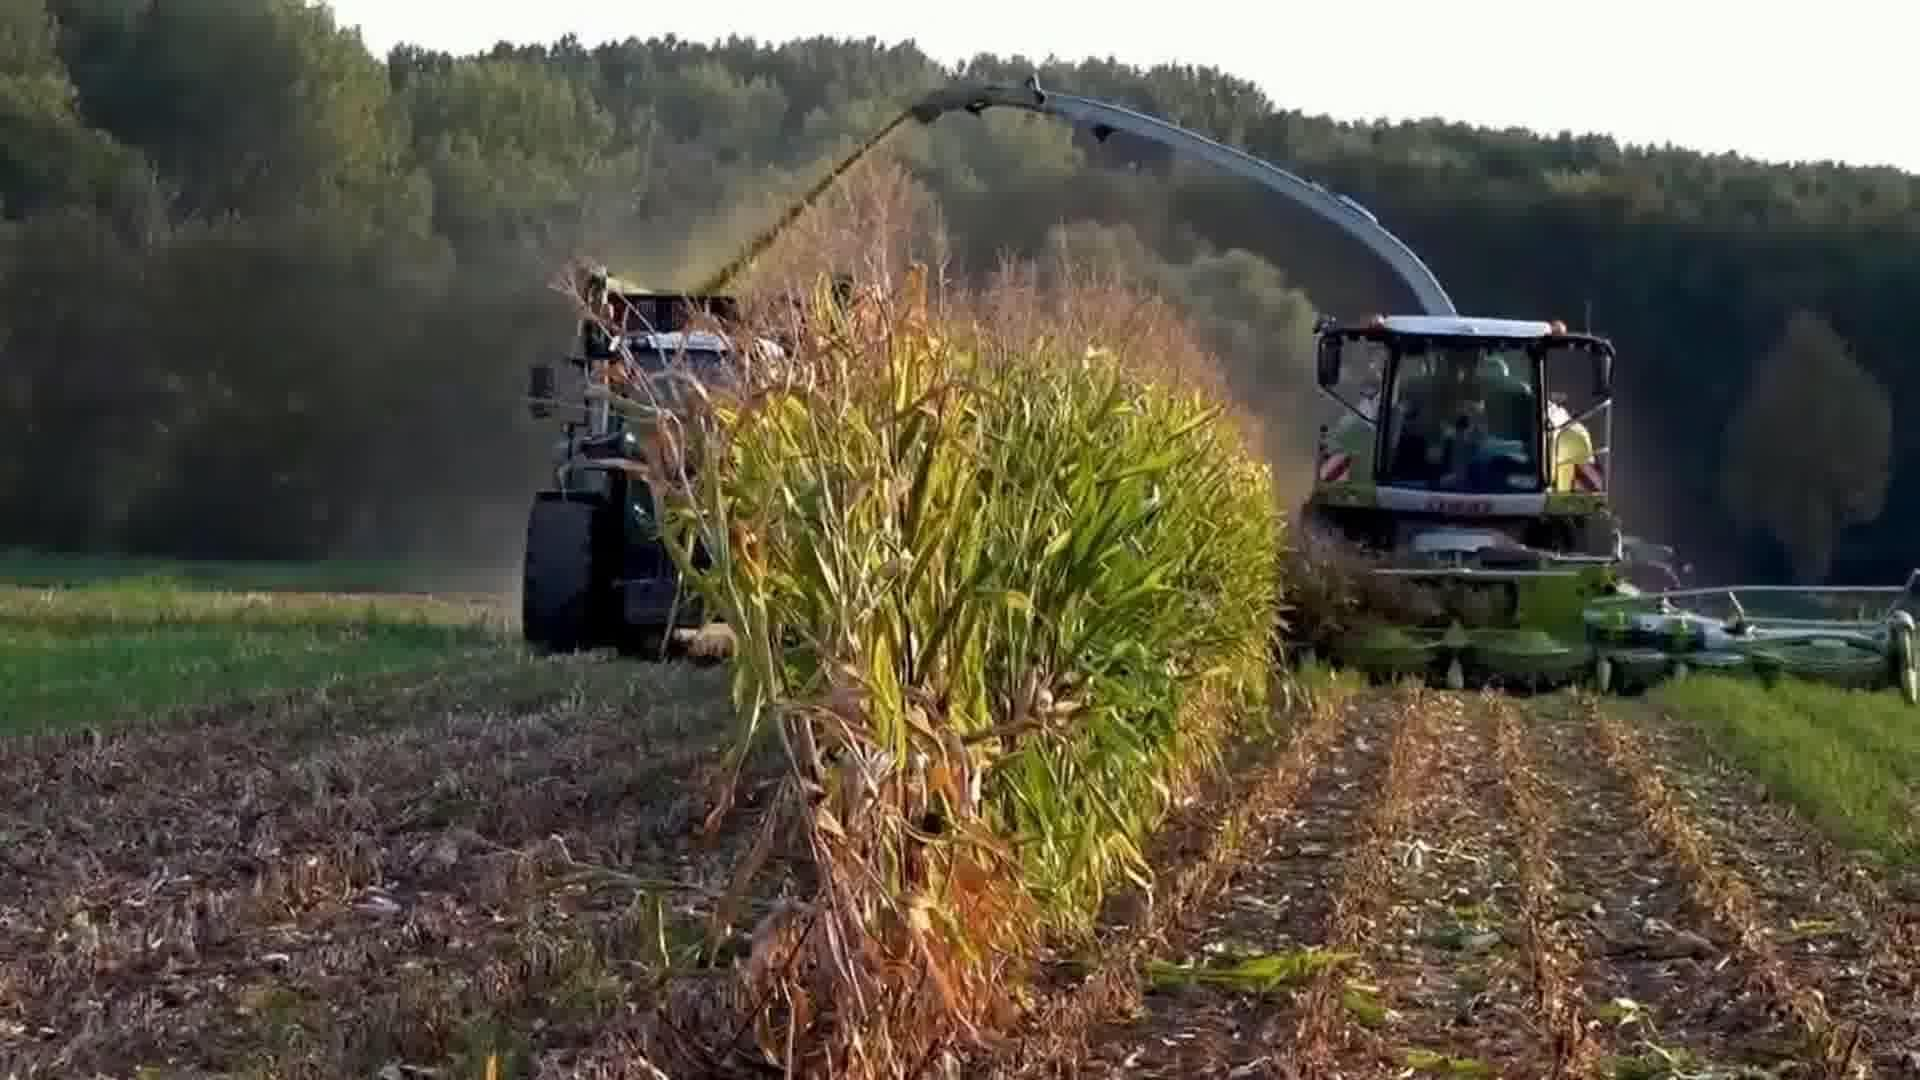combine harvester: (903, 66, 1920, 708)
tractor: (509, 323, 881, 666)
